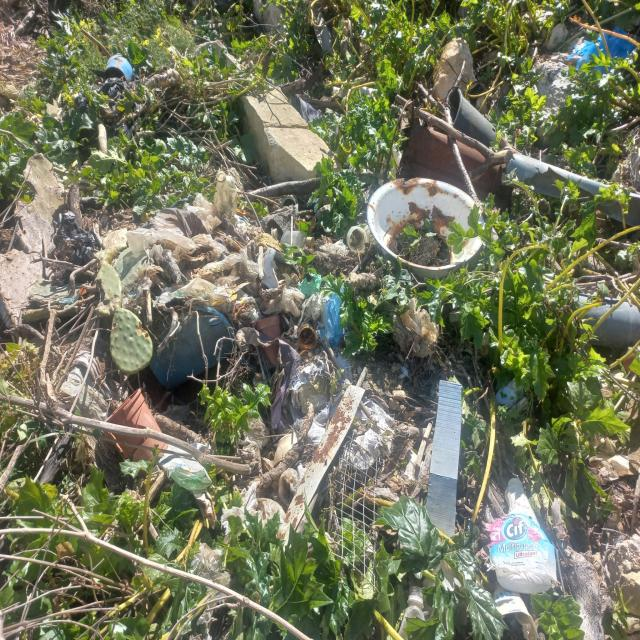Bottle: (330, 84, 377, 96)
Carton: (424, 381, 464, 542)
Other litter: (183, 321, 400, 622), (54, 170, 369, 321), (397, 114, 515, 216), (367, 176, 484, 275), (105, 388, 168, 471), (249, 314, 282, 366), (92, 53, 136, 83), (294, 92, 322, 120)
Other plastic: (506, 153, 640, 228), (145, 303, 240, 392), (159, 443, 218, 522), (564, 288, 640, 348), (291, 285, 350, 351), (568, 27, 637, 82), (490, 582, 548, 640), (449, 86, 497, 148), (74, 79, 125, 119), (310, 6, 335, 55), (495, 375, 529, 411)
Paper: (493, 472, 556, 596)
